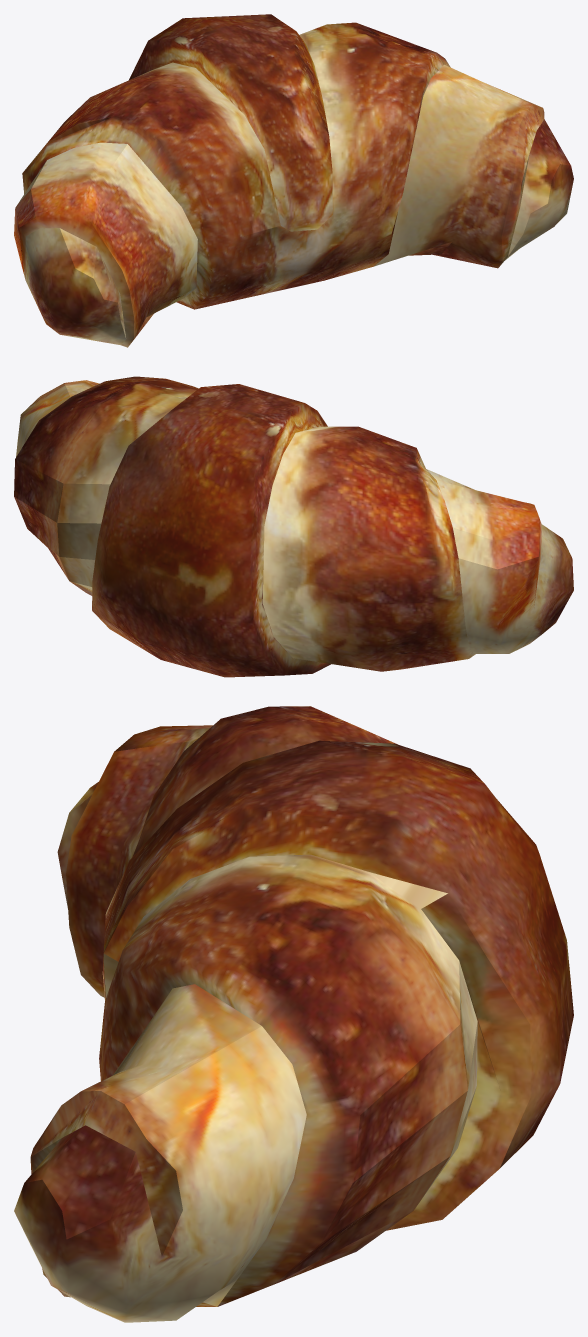
Rendered from Brioche.FBX.
The picture shows the model from 3 angles, top to bottom: view 1: azimuth 30°, elevation 25°; view 2: azimuth 150°, elevation 25°; view 3: azimuth 270°, elevation 25°; orthographic projection. The views are drawn at different scales.
Parts seen in each view (by area): view 1: brioche; view 2: brioche; view 3: brioche.
Boxes of the visible parts, bbox=[...] form: brioche: bbox=[14, 14, 573, 347]; brioche: bbox=[14, 376, 573, 677]; brioche: bbox=[14, 706, 573, 1322].
Bounding box in the file's own units: 324 × 179 × 146.
Materials: 1 (1 with a texture image).
